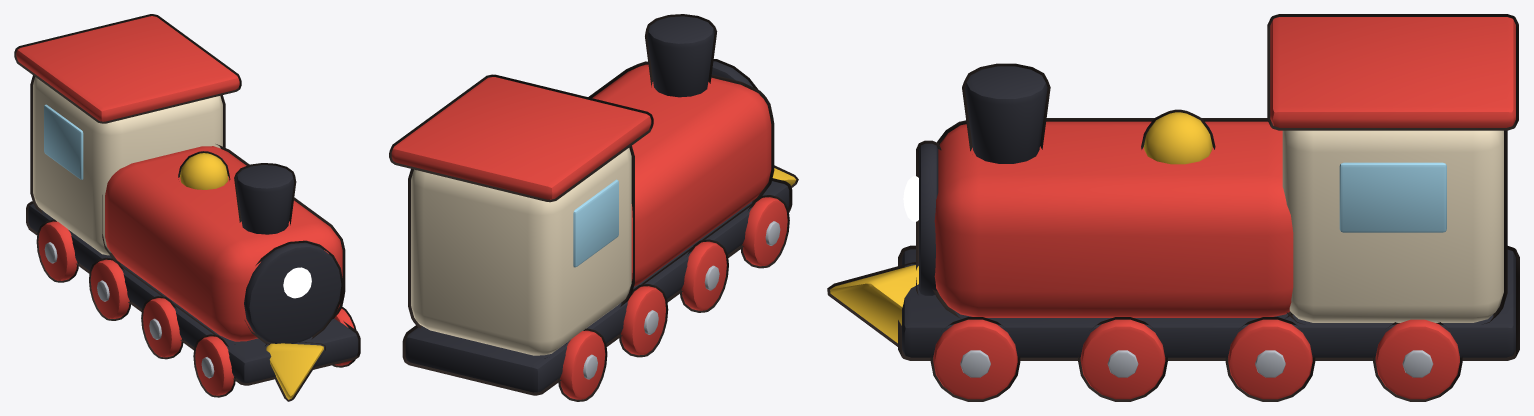
Rendered from Train_Loco.fbx.
3 renders of one model, left to right at view 1: azimuth 30°, elevation 25°; view 2: azimuth 150°, elevation 25°; view 3: azimuth 270°, elevation 25°, orthographic. The views are drawn at different scales.
Parts seen in each view (by area): view 1: VH_Train_Loco_Red, VH_Train_Loco_Black, VH_Train_Loco_WallCream, VH_Train_Loco_Outline, VH_Train_Loco_Yellow, VH_Train_Loco_Window, VH_Train_Loco_MetalLight, VH_Train_Loco_LampWarm; view 2: VH_Train_Loco_Red, VH_Train_Loco_WallCream, VH_Train_Loco_Black, VH_Train_Loco_Outline, VH_Train_Loco_Window, VH_Train_Loco_MetalLight; view 3: VH_Train_Loco_Red, VH_Train_Loco_WallCream, VH_Train_Loco_Black, VH_Train_Loco_Outline, VH_Train_Loco_Window, VH_Train_Loco_Yellow, VH_Train_Loco_MetalLight, VH_Train_Loco_LampWarm.
Part boxes in pixels (bbox=[...]): VH_Train_Loco_Red: bbox=[16, 16, 354, 395]; VH_Train_Loco_Black: bbox=[28, 165, 358, 382]; VH_Train_Loco_WallCream: bbox=[33, 77, 222, 255]; VH_Train_Loco_Outline: bbox=[14, 14, 360, 401]; VH_Train_Loco_Yellow: bbox=[180, 153, 323, 399]; VH_Train_Loco_Window: bbox=[44, 104, 83, 179]; VH_Train_Loco_MetalLight: bbox=[44, 242, 214, 378]; VH_Train_Loco_LampWarm: bbox=[283, 267, 311, 298]; VH_Train_Loco_Red: bbox=[391, 64, 787, 399]; VH_Train_Loco_WallCream: bbox=[411, 148, 631, 355]; VH_Train_Loco_Black: bbox=[405, 16, 789, 392]; VH_Train_Loco_Outline: bbox=[389, 14, 798, 401]; VH_Train_Loco_Window: bbox=[573, 179, 618, 267]; VH_Train_Loco_MetalLight: bbox=[583, 221, 780, 379]; VH_Train_Loco_Red: bbox=[933, 17, 1515, 399]; VH_Train_Loco_WallCream: bbox=[1282, 130, 1503, 322]; VH_Train_Loco_Black: bbox=[902, 66, 1515, 357]; VH_Train_Loco_Outline: bbox=[827, 14, 1519, 401]; VH_Train_Loco_Window: bbox=[1339, 162, 1446, 232]; VH_Train_Loco_Yellow: bbox=[830, 112, 1212, 343]; VH_Train_Loco_MetalLight: bbox=[960, 350, 1433, 377]; VH_Train_Loco_LampWarm: bbox=[903, 176, 918, 221].
Size of the model in its own units: 3.08 by 4.28 by 9.02.
